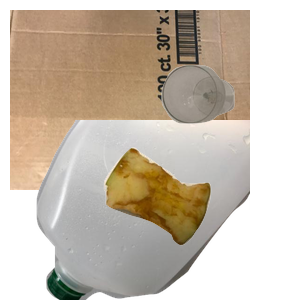cardboard: (10, 10, 250, 190)
glass: (159, 63, 300, 179)
plastic: (34, 120, 274, 300)
trash: (101, 145, 300, 300)
